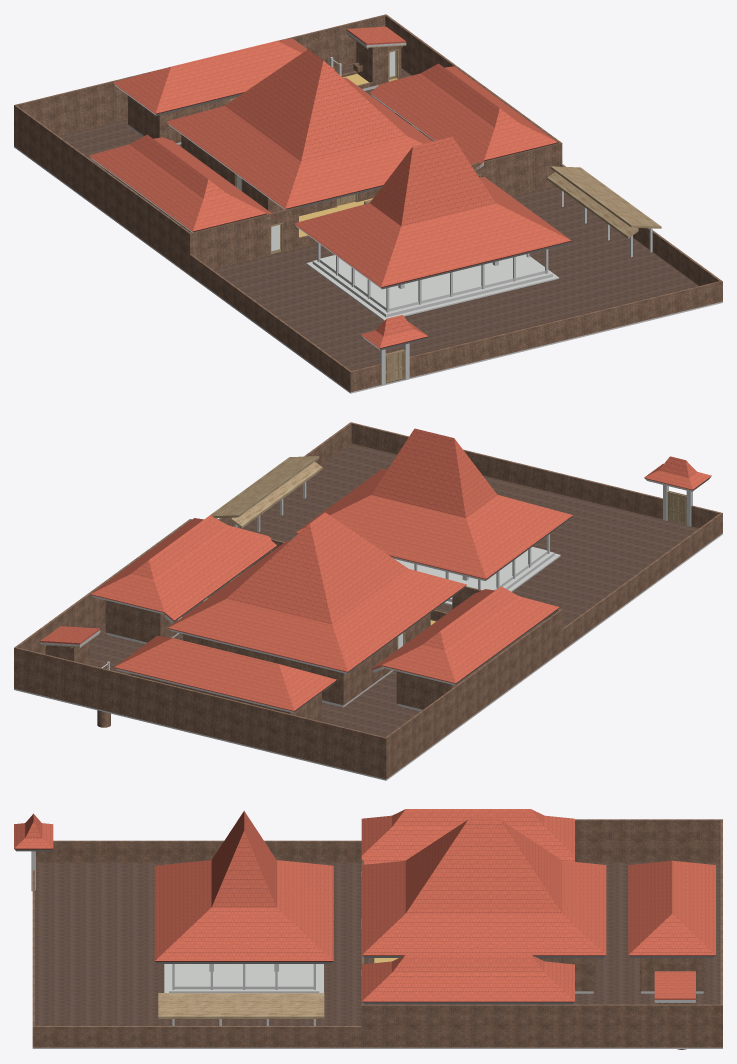
File: Joglo.fbx
3 renders of one model, top to bottom at view 1: azimuth 30°, elevation 25°; view 2: azimuth 150°, elevation 25°; view 3: azimuth 270°, elevation 25°, orthographic. The views are drawn at different scales.
Parts seen in each view (by area): view 1: Mesh339_Earth___Brown_0.001, Mesh409_Roof_Tiles___French_Red_0.001, Mesh408_Roof_Tiles___French_Red_0.001, Mesh410_Roof_Tiles___French_Red_0.001, Mesh411_Roof_Tiles___French_Red_0.001, Mesh286_Brick___Brown_0.001, Mesh404_Brick___Brown_0.001, Mesh412_Roof_Tiles___French_Red_0.001, Mesh285_Brick___Brown_0.001, Mesh1_Concrete___04_0.001, Mesh288_Brick___Brown_0.001, Mesh287_Brick___Brown_0.001 (+16 smaller); view 2: Mesh409_Roof_Tiles___French_Red_0.001, Mesh339_Earth___Brown_0.001, Mesh408_Roof_Tiles___French_Red_0.001, Mesh285_Brick___Brown_0.001, Mesh410_Roof_Tiles___French_Red_0.001, Mesh411_Roof_Tiles___French_Red_0.001, Mesh412_Roof_Tiles___French_Red_0.001, Mesh286_Brick___Brown_0.001, Mesh404_Brick___Brown_0.001, Mesh287_Brick___Brown_0.001, Mesh284_Brick___Brown_0.001, Mesh397_Wood___Pine_Grained_Horizontal_0.001 (+11 smaller); view 3: Mesh339_Earth___Brown_0.001, Mesh409_Roof_Tiles___French_Red_0.001, Mesh408_Roof_Tiles___French_Red_0.001, Mesh284_Brick___Brown_0.001, Mesh410_Roof_Tiles___French_Red_0.001, Mesh412_Roof_Tiles___French_Red_0.001, Mesh392_Brick___Brown_0.001, Mesh411_Roof_Tiles___French_Red_0.001, Mesh286_Brick___Brown_0.001, Mesh287_Brick___Brown_0.001, Mesh397_Wood___Pine_Grained_Horizontal_0.001, Mesh1_Concrete___04_0.001 (+9 smaller).
Boxes of the visible parts, x1,y1,x2,y2 form: Mesh339_Earth___Brown_0.001: (59,64,698,383); Mesh409_Roof_Tiles___French_Red_0.001: (166,49,432,209); Mesh408_Roof_Tiles___French_Red_0.001: (294,136,571,287); Mesh410_Roof_Tiles___French_Red_0.001: (370,63,557,167); Mesh411_Roof_Tiles___French_Red_0.001: (89,134,276,231); Mesh286_Brick___Brown_0.001: (15,105,190,273); Mesh404_Brick___Brown_0.001: (409,280,722,377); Mesh412_Roof_Tiles___French_Red_0.001: (113,38,335,114); Mesh285_Brick___Brown_0.001: (14,15,385,146); Mesh1_Concrete___04_0.001: (319,254,545,311); Mesh288_Brick___Brown_0.001: (189,207,298,274); Mesh287_Brick___Brown_0.001: (190,254,352,392); Mesh409_Roof_Tiles___French_Red_0.001: (168,512,466,672); Mesh339_Earth___Brown_0.001: (90,443,698,737); Mesh408_Roof_Tiles___French_Red_0.001: (296,428,572,579); Mesh285_Brick___Brown_0.001: (16,647,387,779); Mesh410_Roof_Tiles___French_Red_0.001: (90,515,276,621); Mesh411_Roof_Tiles___French_Red_0.001: (372,586,559,683); Mesh412_Roof_Tiles___French_Red_0.001: (114,635,336,711); Mesh286_Brick___Brown_0.001: (386,610,561,778); Mesh404_Brick___Brown_0.001: (350,422,662,519); Mesh287_Brick___Brown_0.001: (562,512,722,650); Mesh284_Brick___Brown_0.001: (14,519,191,688); Mesh397_Wood___Pine_Grained_Horizontal_0.001: (210,456,319,518); Mesh339_Earth___Brown_0.001: (35,862,720,1025); Mesh409_Roof_Tiles___French_Red_0.001: (361,819,606,955); Mesh408_Roof_Tiles___French_Red_0.001: (154,811,333,961); Mesh284_Brick___Brown_0.001: (361,1004,722,1047); Mesh410_Roof_Tiles___French_Red_0.001: (361,955,574,1002); Mesh412_Roof_Tiles___French_Red_0.001: (628,860,715,955); Mesh392_Brick___Brown_0.001: (35,1026,365,1047); Mesh411_Roof_Tiles___French_Red_0.001: (361,809,574,864); Mesh286_Brick___Brown_0.001: (575,819,720,862); Mesh287_Brick___Brown_0.001: (36,840,361,862); Mesh397_Wood___Pine_Grained_Horizontal_0.001: (158,993,324,1018); Mesh1_Concrete___04_0.001: (174,964,313,989).
Size of the model in its own units: 1107 by 469 by 1780.
